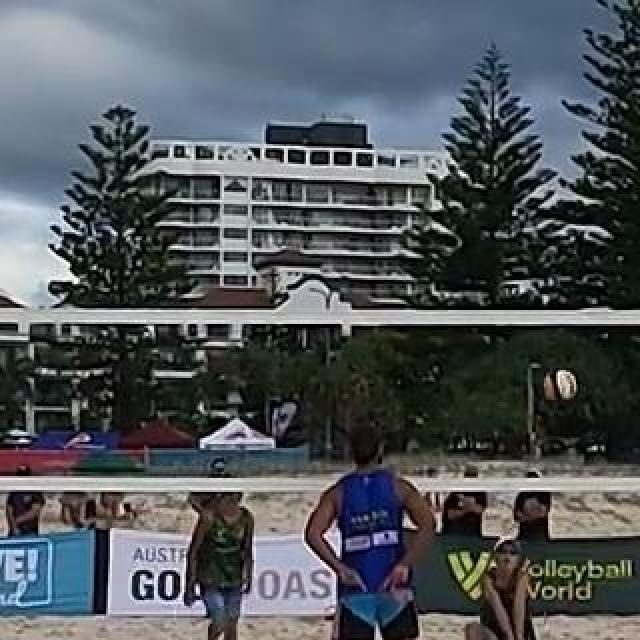volleyball: (543, 368, 577, 400)
